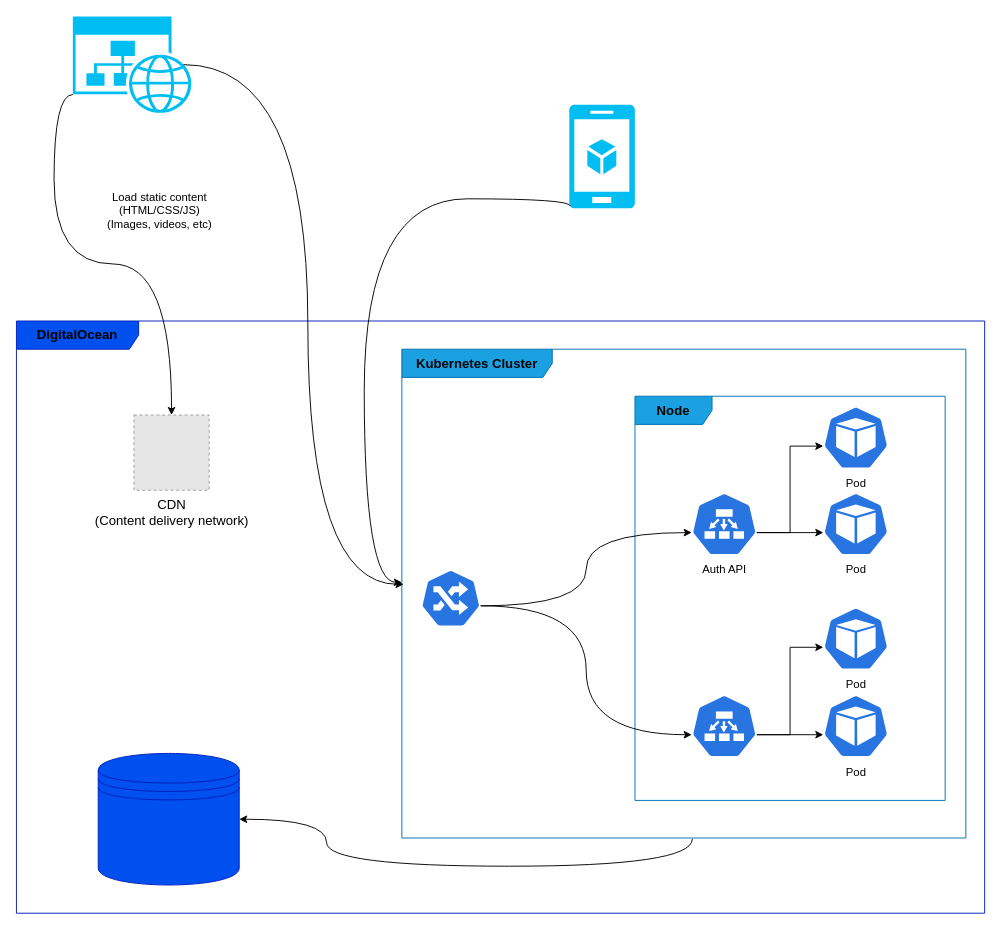
The diagram is 1001 pixels wide and 930 high, and some of its shapes have lost their labels. Grey dashed boxes stand in for pictures. The shapes that lost their labels are listed below. From the top down, each one's centre as x and y in pixels, then its label:
At [132,64]: "Web Client".
At [601,156]: "Phone application".
At [450,597]: "Ingress (API gateway)".
At [723,725]: "SF CRM".
At [168,818]: "DO Managed Database".
